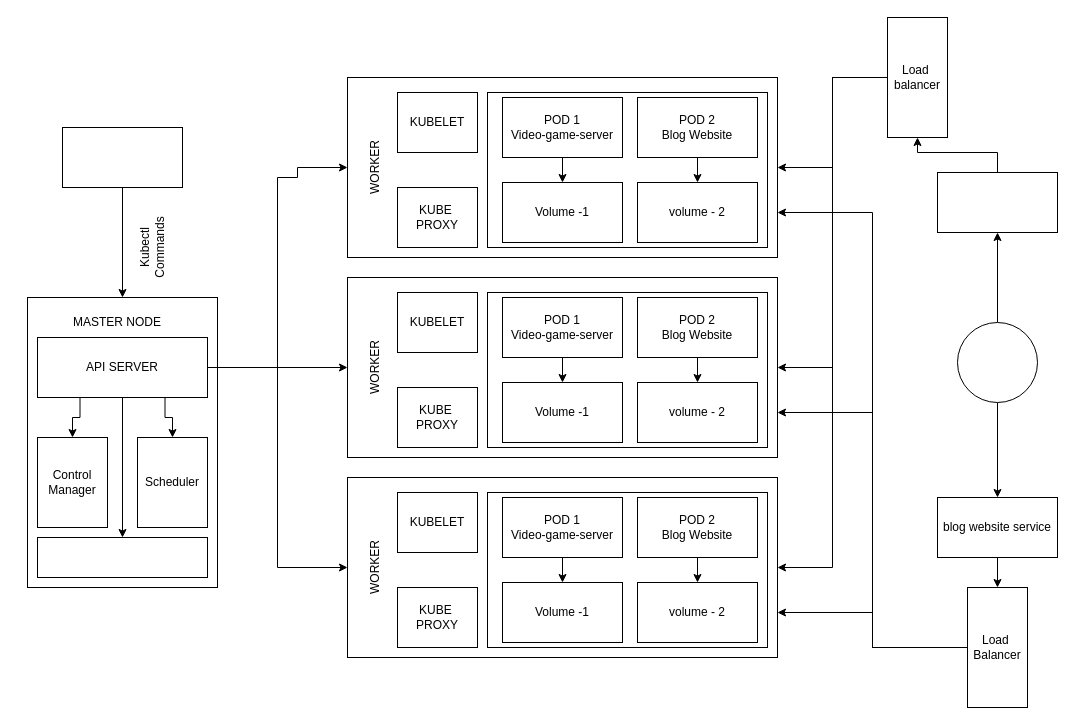
Some shapes in this 1075 by 725 pixel diagram are drawn without their labels. The centre of each missing label's shape, as x and y in pixels:
DEVELOPER Manager: [122,157]
ETCD: [122,557]
Users: [997,362]
Video game service: [997,202]
